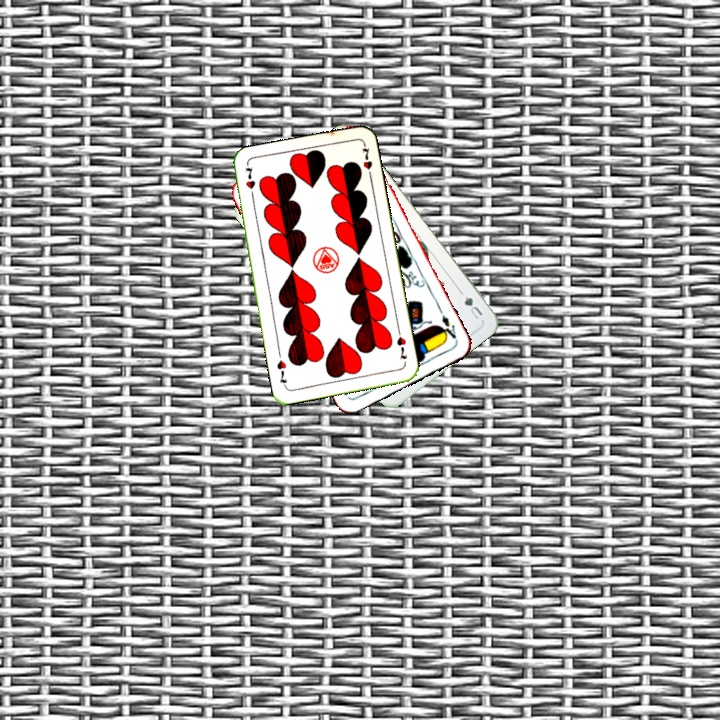EA: (436, 311, 460, 343)
GU: (460, 292, 485, 322)
H7: (393, 325, 410, 362), (241, 163, 257, 202)
